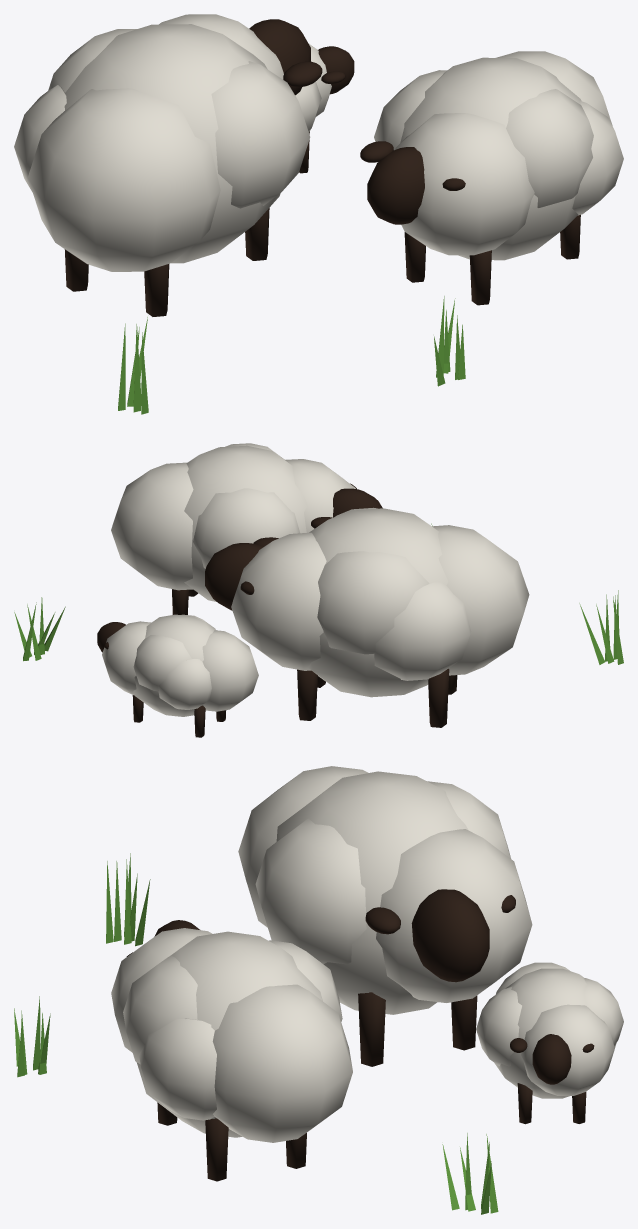
File: resource_sheep.fbx
3 renders of one model, top to bottom at view 1: azimuth 30°, elevation 25°; view 2: azimuth 150°, elevation 25°; view 3: azimuth 270°, elevation 25°, orthographic. The views are drawn at different scales.
Visible parts, largest first — view 1: resource_sheep_wool_00, resource_sheep_dk#2a1c14.001_01, resource_sheep_grass#5d9a3a.001_02; view 2: resource_sheep_wool_00, resource_sheep_dk#2a1c14.001_01, resource_sheep_grass#5d9a3a.001_02; view 3: resource_sheep_wool_00, resource_sheep_dk#2a1c14.001_01, resource_sheep_grass#5d9a3a.001_02.
Part boxes in pixels (bbox=[...]): resource_sheep_wool_00: bbox=[14, 14, 623, 271]; resource_sheep_dk#2a1c14.001_01: bbox=[64, 19, 580, 316]; resource_sheep_grass#5d9a3a.001_02: bbox=[118, 296, 465, 414]; resource_sheep_wool_00: bbox=[102, 443, 529, 716]; resource_sheep_dk#2a1c14.001_01: bbox=[97, 483, 457, 737]; resource_sheep_grass#5d9a3a.001_02: bbox=[14, 523, 623, 664]; resource_sheep_wool_00: bbox=[111, 766, 623, 1142]; resource_sheep_dk#2a1c14.001_01: bbox=[126, 889, 594, 1181]; resource_sheep_grass#5d9a3a.001_02: bbox=[14, 853, 498, 1214].
Bounding box in the file's own units: 106 × 40.95 × 95.23.
